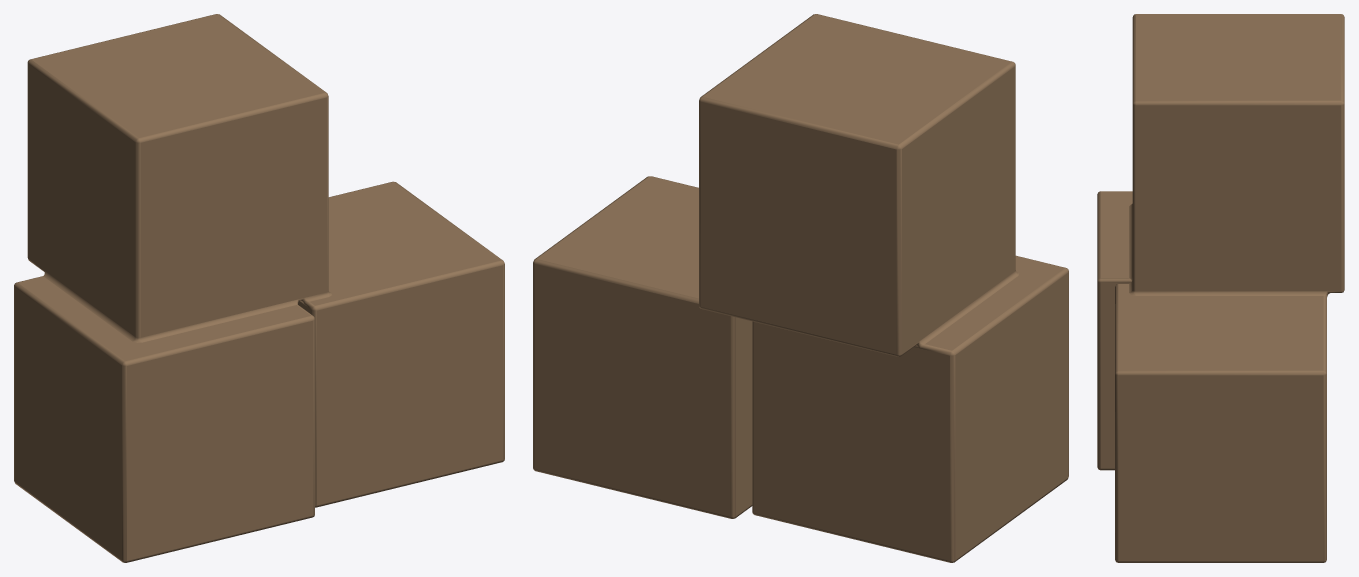
File: SM_Crate_Stack.glb
The picture shows the model from 3 angles, left to right: view 1: azimuth 30°, elevation 25°; view 2: azimuth 150°, elevation 25°; view 3: azimuth 270°, elevation 25°; orthographic projection. The views are drawn at different scales.
Parts seen in each view (by area): view 1: SM_Crate_Stack; view 2: SM_Crate_Stack; view 3: SM_Crate_Stack.
Boxes of the visible parts, x1,y1,x2,y2 form: SM_Crate_Stack: (14,14,504,562); SM_Crate_Stack: (533,14,1068,562); SM_Crate_Stack: (1097,14,1344,562).
Bounding box in the file's own units: 1.22 × 1.2 × 0.7.
